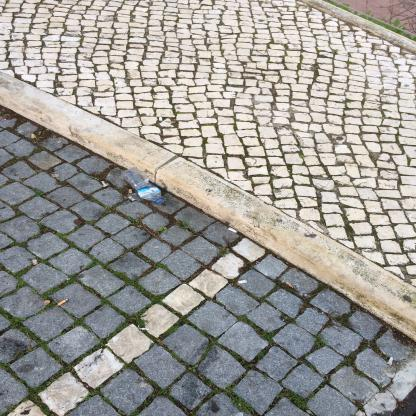trash: (121, 167, 168, 205)
